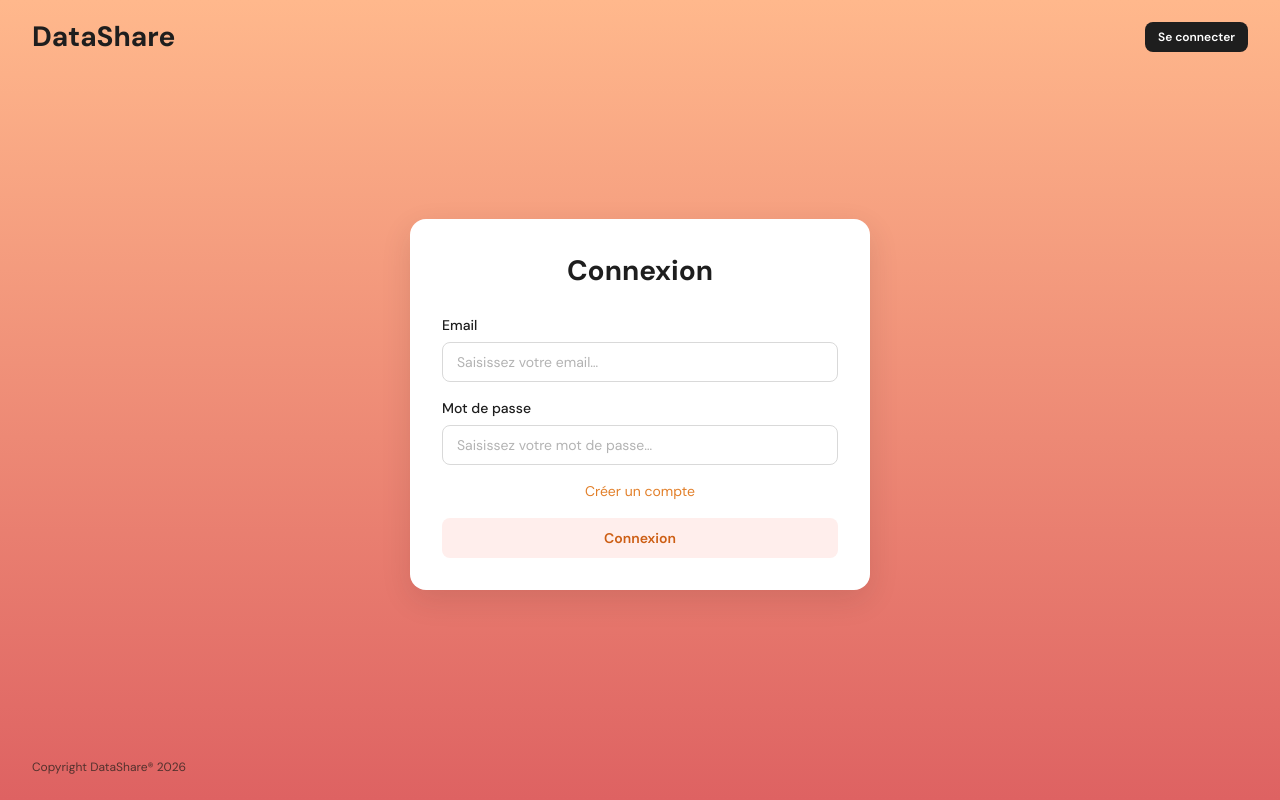
Test: LoginPage › affiche un message dédié en cas de rate-limit (429), pas « identifiants invalides »
Type "a@b.fr" into the field labelled "Email" at (640, 362), box [442,342,838,382]
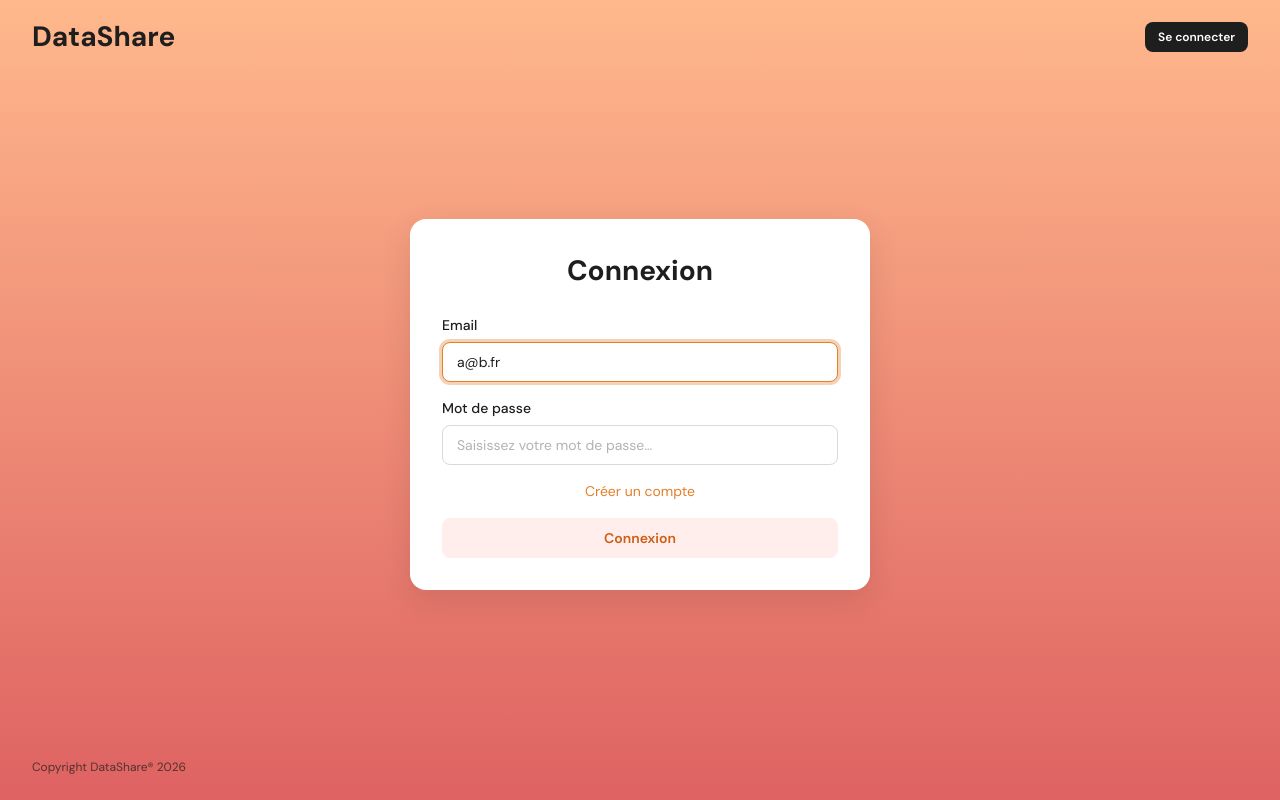
Type "motdepasse" into the password field labelled "Mot de passe" at (640, 444), box [442,424,838,464]
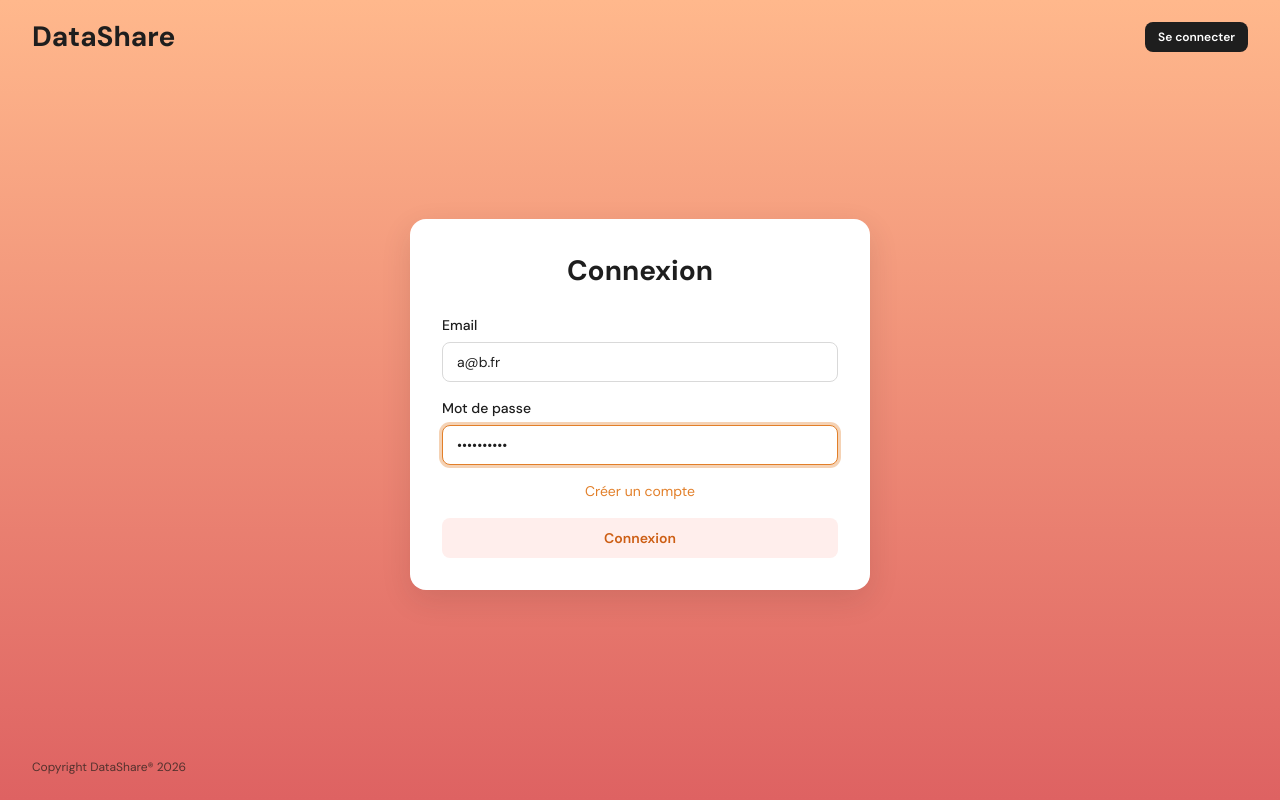
Click the button "Connexion" at (640, 538), box [442,518,838,558]
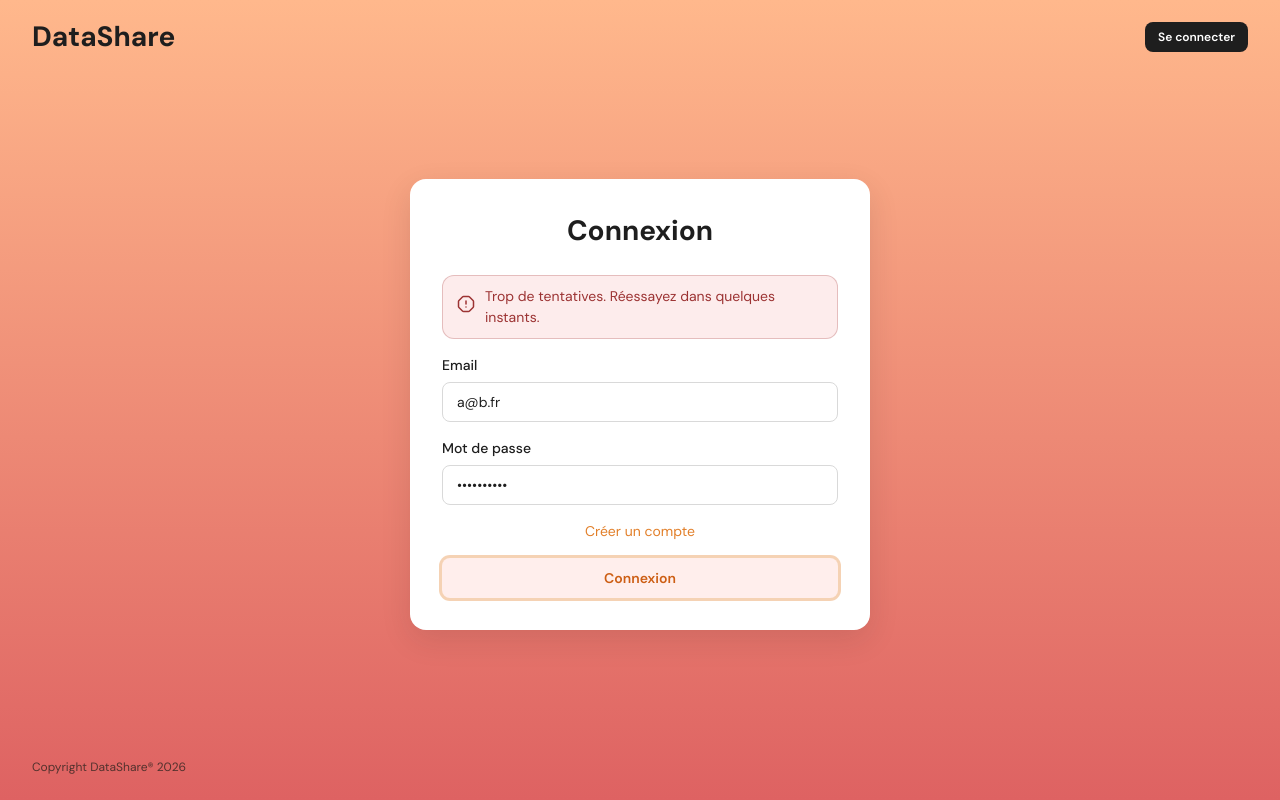
Expected: the text "Trop de tentatives. Réessayez dans quelques instants." is shown, [485,286,823,328]
